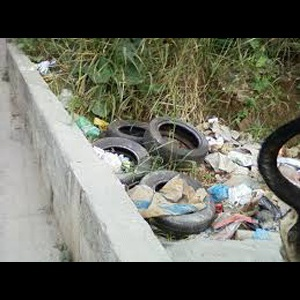tire: (138, 165, 217, 240), (83, 136, 149, 191), (144, 117, 209, 172), (105, 119, 162, 159)
